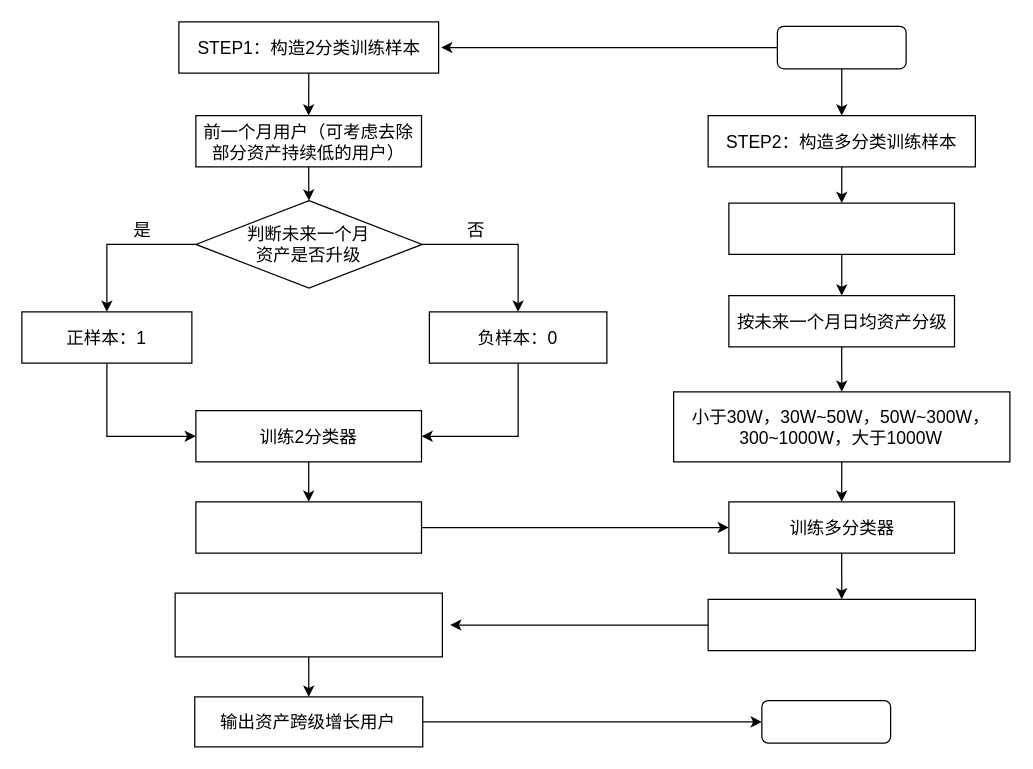
This 1033x769 diagram has some shape labels left out. The shapes that lost their labels are listed below. From the top down, each one's centre as x and y in pixels, then its label:
At point 841,47: "开始".
At point 841,228: "资产升级用户".
At point 308,527: "预测未来一个月 资产会升级的人".
At point 308,624: "STEP3：去除同级资产 升级的用户".
At point 841,624: "预测资产升级用户的资产等级".
At point 826,721: "结束".
